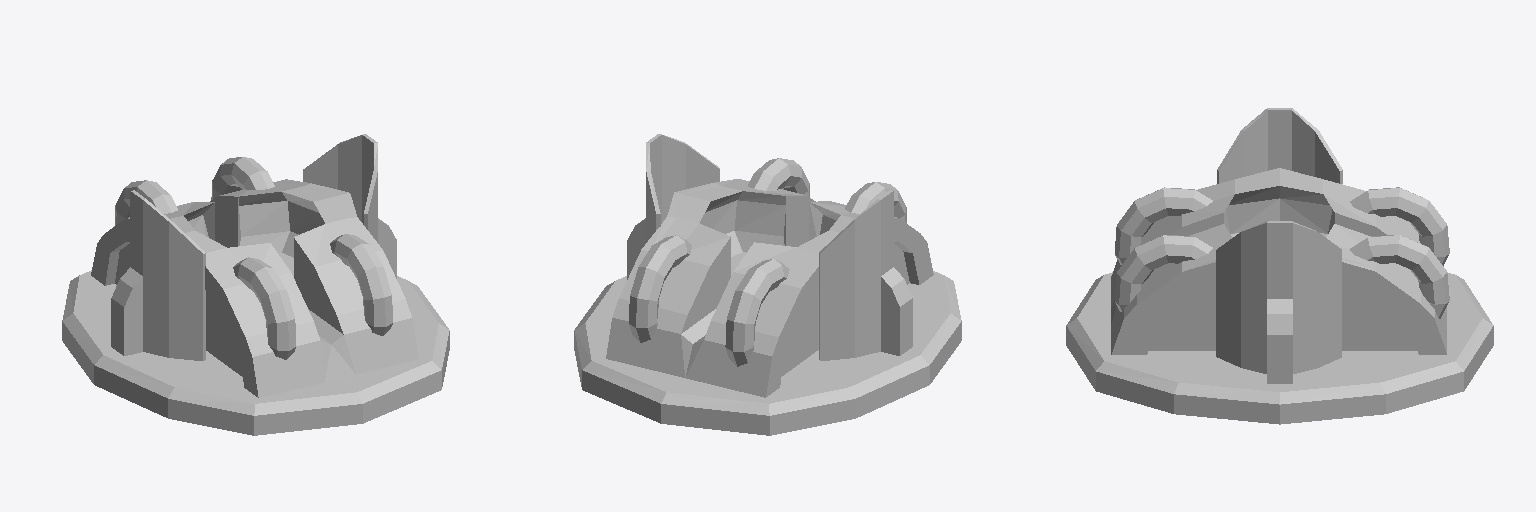
The model's file is AetherCore.obj.
3 views of the same model, side by side, from view 1: azimuth 30°, elevation 25°; view 2: azimuth 150°, elevation 25°; view 3: azimuth 270°, elevation 25° (orthographic).
Bounding box in the file's own units: 17.88 × 9.46 × 20.45.